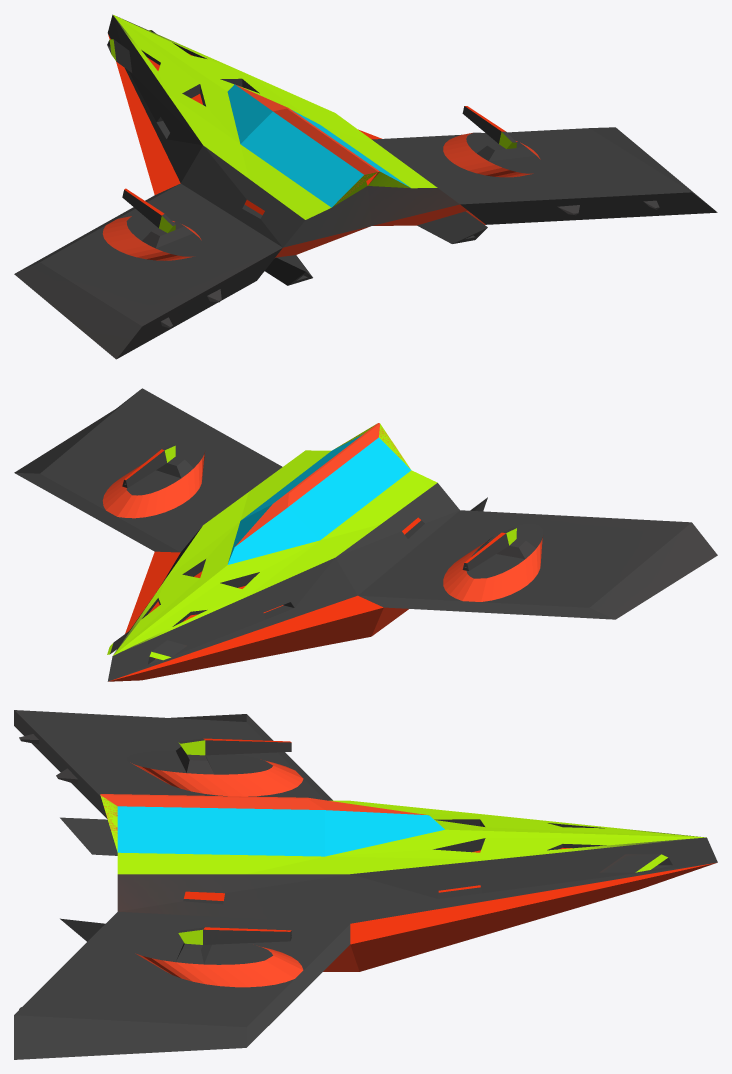
The model's file is StarFighter.fbx.
3 renders of one model, top to bottom at view 1: azimuth 30°, elevation 25°; view 2: azimuth 150°, elevation 25°; view 3: azimuth 270°, elevation 25°, orthographic. The views are drawn at different scales.
Parts seen in each view (by area): view 1: Cube; view 2: Cube; view 3: Cube.
Part boxes in pixels (bbox=[...]): Cube: bbox=[14, 14, 717, 359]; Cube: bbox=[14, 388, 717, 681]; Cube: bbox=[14, 710, 717, 1059].
Bounding box in the file's own units: 679 × 112 × 605.
